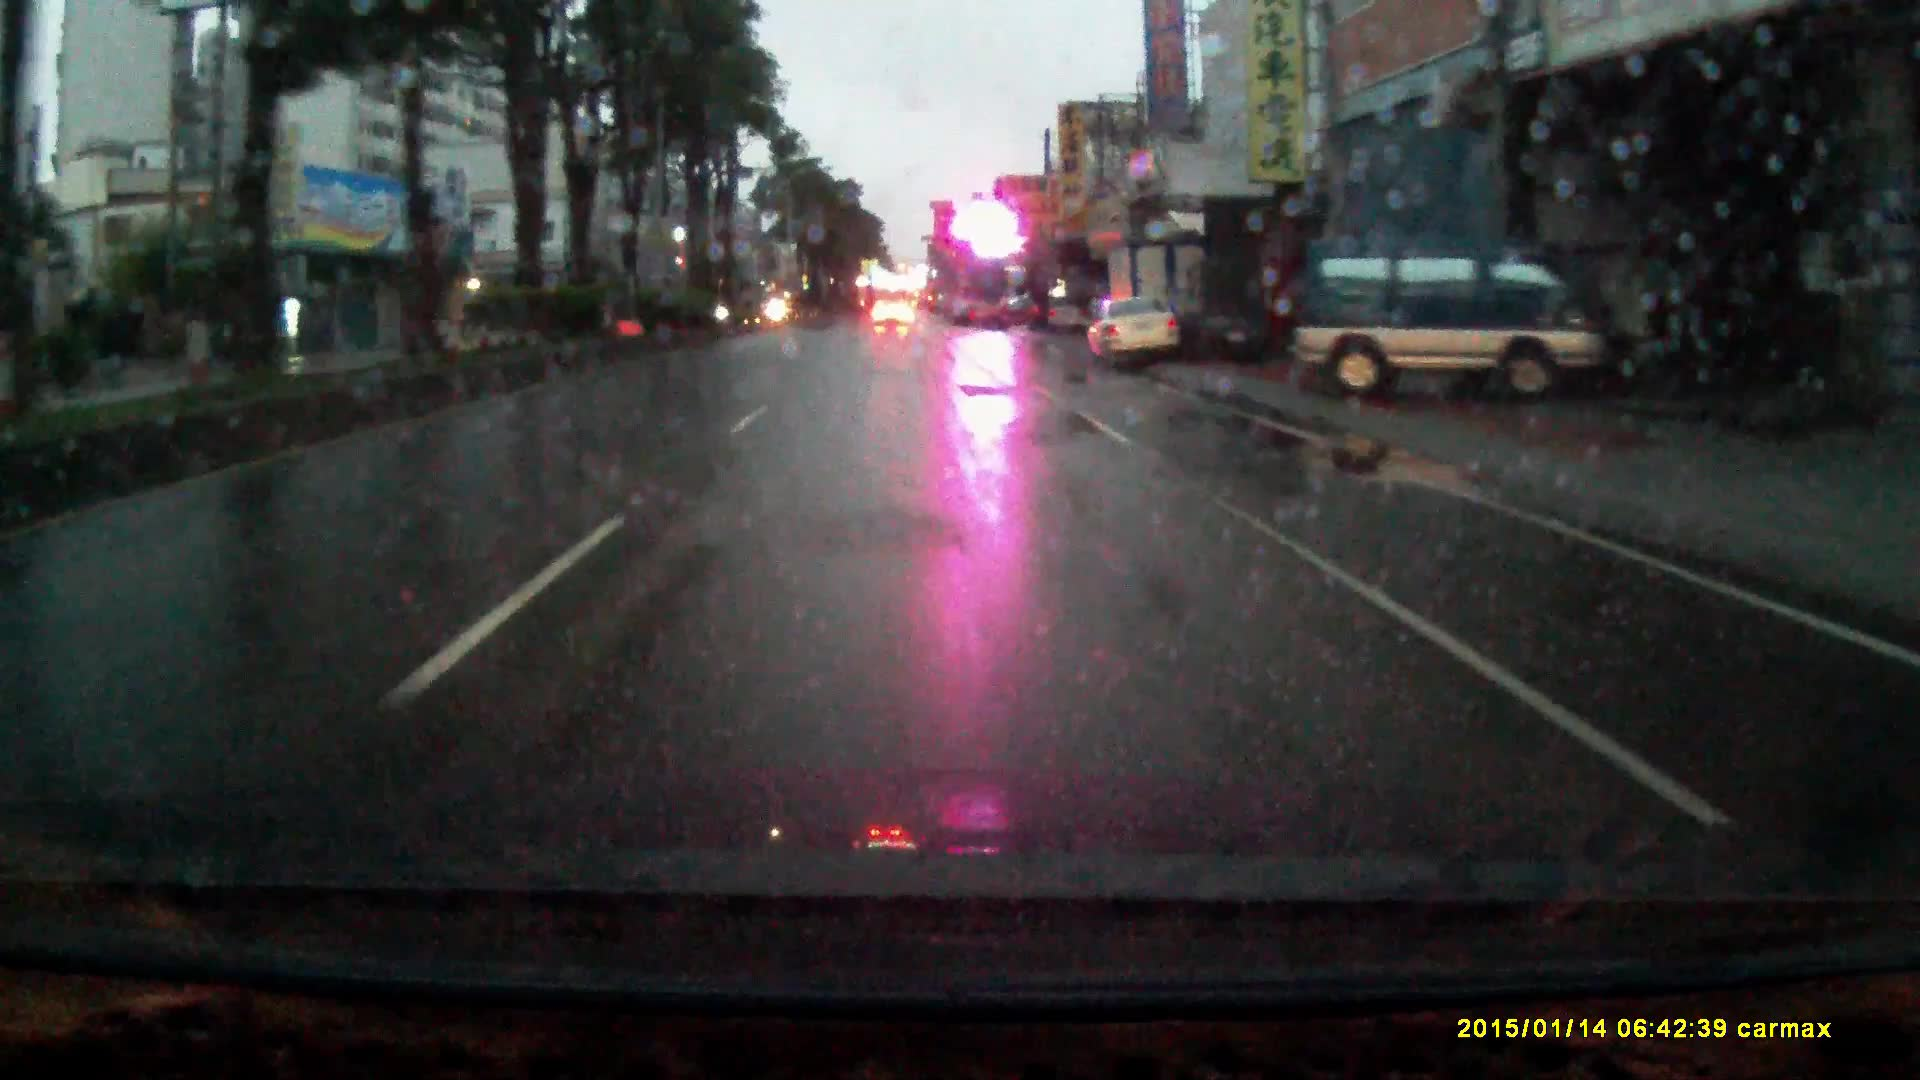vehicle: (1287, 229, 1613, 404), (1101, 233, 1218, 365), (1087, 294, 1187, 368), (971, 294, 1040, 334), (1034, 298, 1087, 336), (876, 293, 911, 328)
